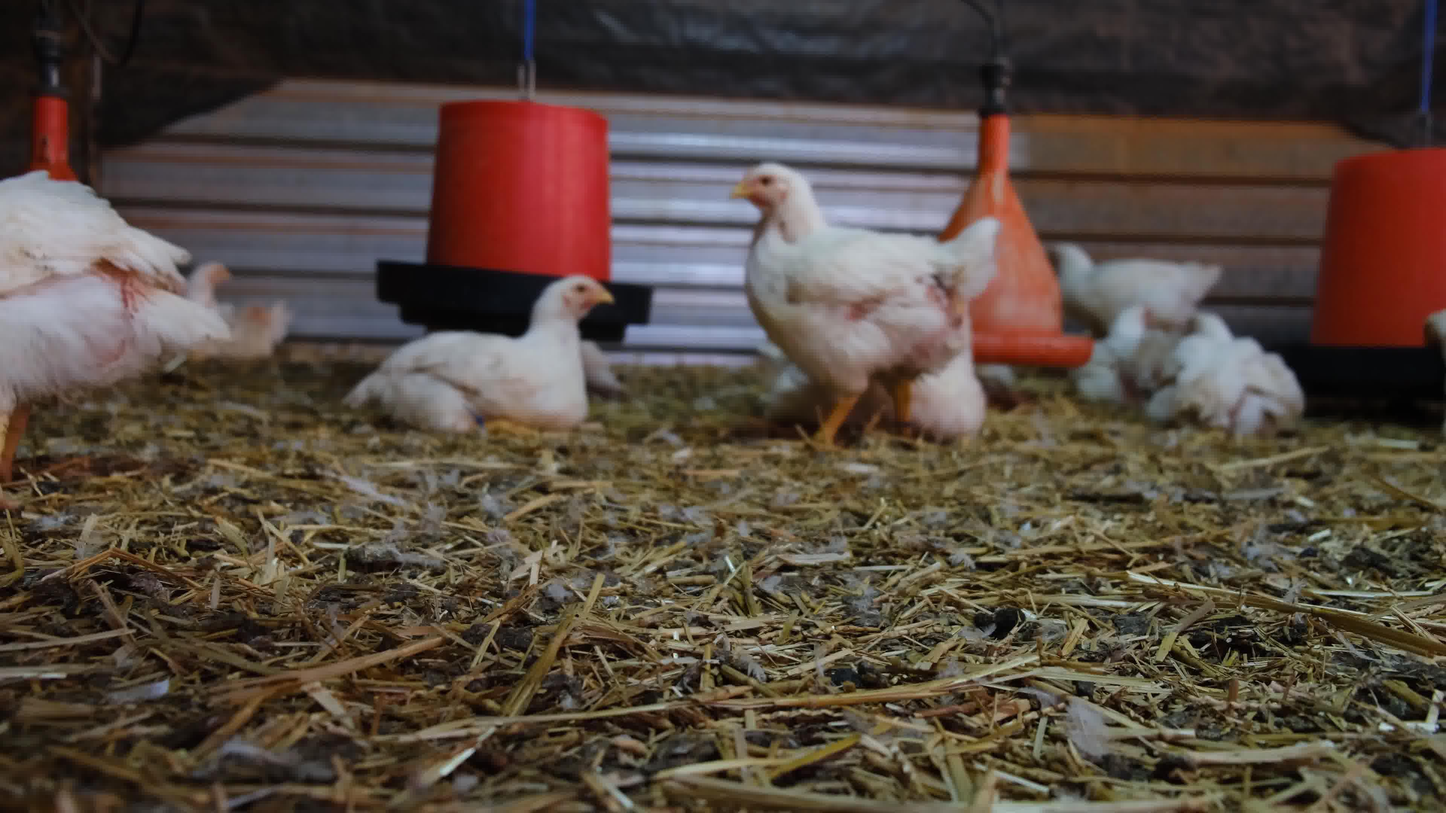AbNormal: (345, 275, 635, 440), (1171, 312, 1316, 448)
Normal: (729, 160, 1026, 463), (0, 137, 241, 495), (1043, 228, 1239, 361)
